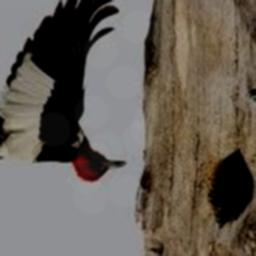Woodpecker: (0, 0, 125, 182)
